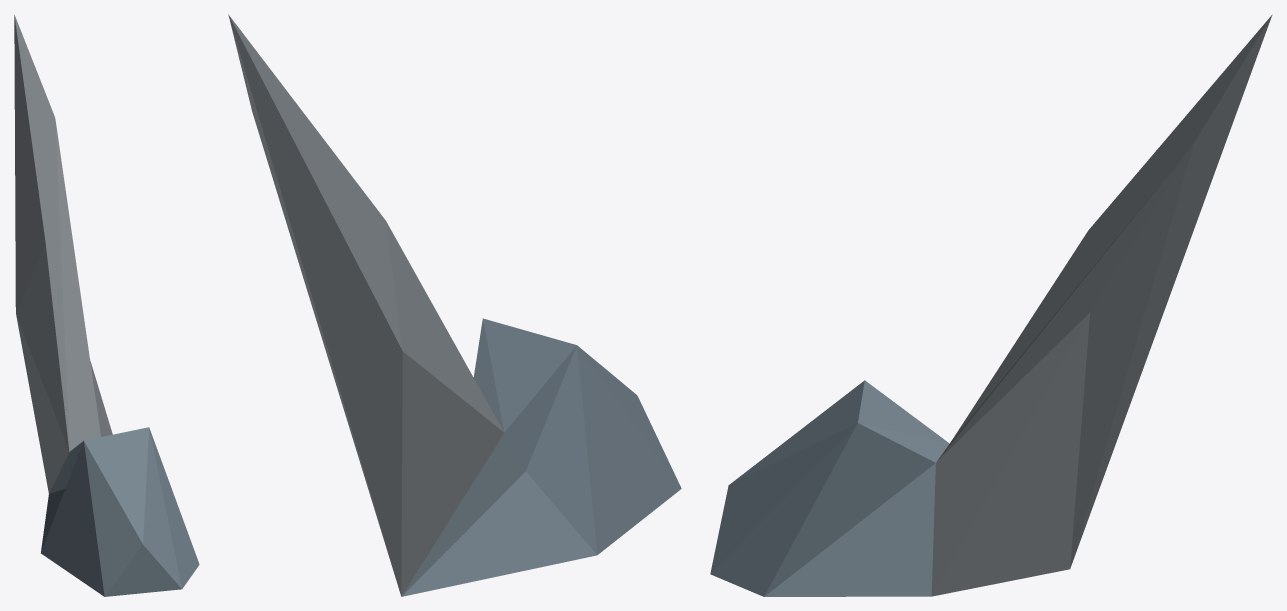
File: rock07.fbx
The picture shows the model from 3 angles, left to right: view 1: azimuth 30°, elevation 25°; view 2: azimuth 150°, elevation 25°; view 3: azimuth 270°, elevation 25°; orthographic projection. The views are drawn at different scales.
Parts seen in each view (by area): view 1: pCube4; view 2: pCube4; view 3: pCube4.
Boxes of the visible parts, x1,y1,x2,y2 form: pCube4: [14, 14, 199, 596]; pCube4: [228, 14, 681, 596]; pCube4: [710, 14, 1272, 596].
Size of the model in its own units: 0.0342 by 0.1161 by 0.1014.
